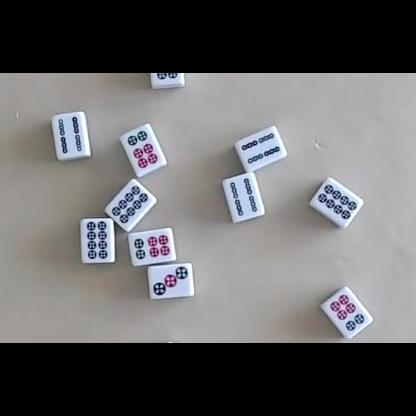3p: (153, 266, 188, 296)
4s: (241, 133, 280, 164), (229, 178, 258, 216), (58, 117, 82, 154)
6p: (330, 295, 365, 331), (128, 131, 157, 168), (134, 235, 171, 260), (155, 73, 177, 79)
8p: (112, 186, 149, 223), (318, 184, 357, 219), (87, 221, 108, 260)
